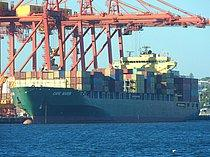Ship: (7, 46, 204, 126)
